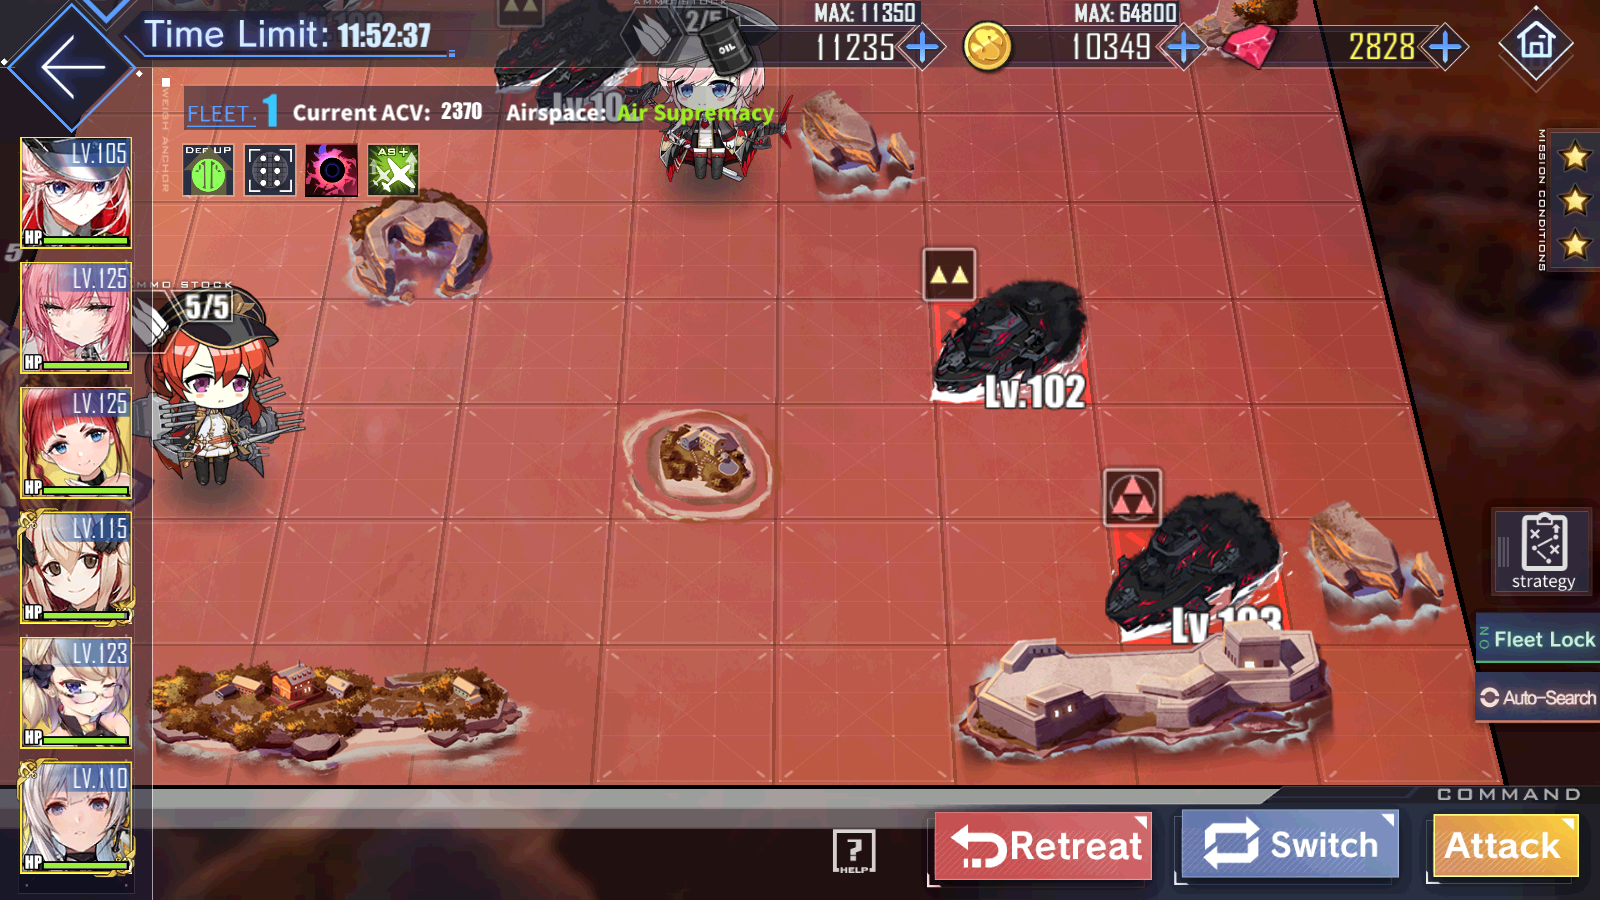enemy: (1104, 468, 1284, 636), (922, 247, 1090, 405)
